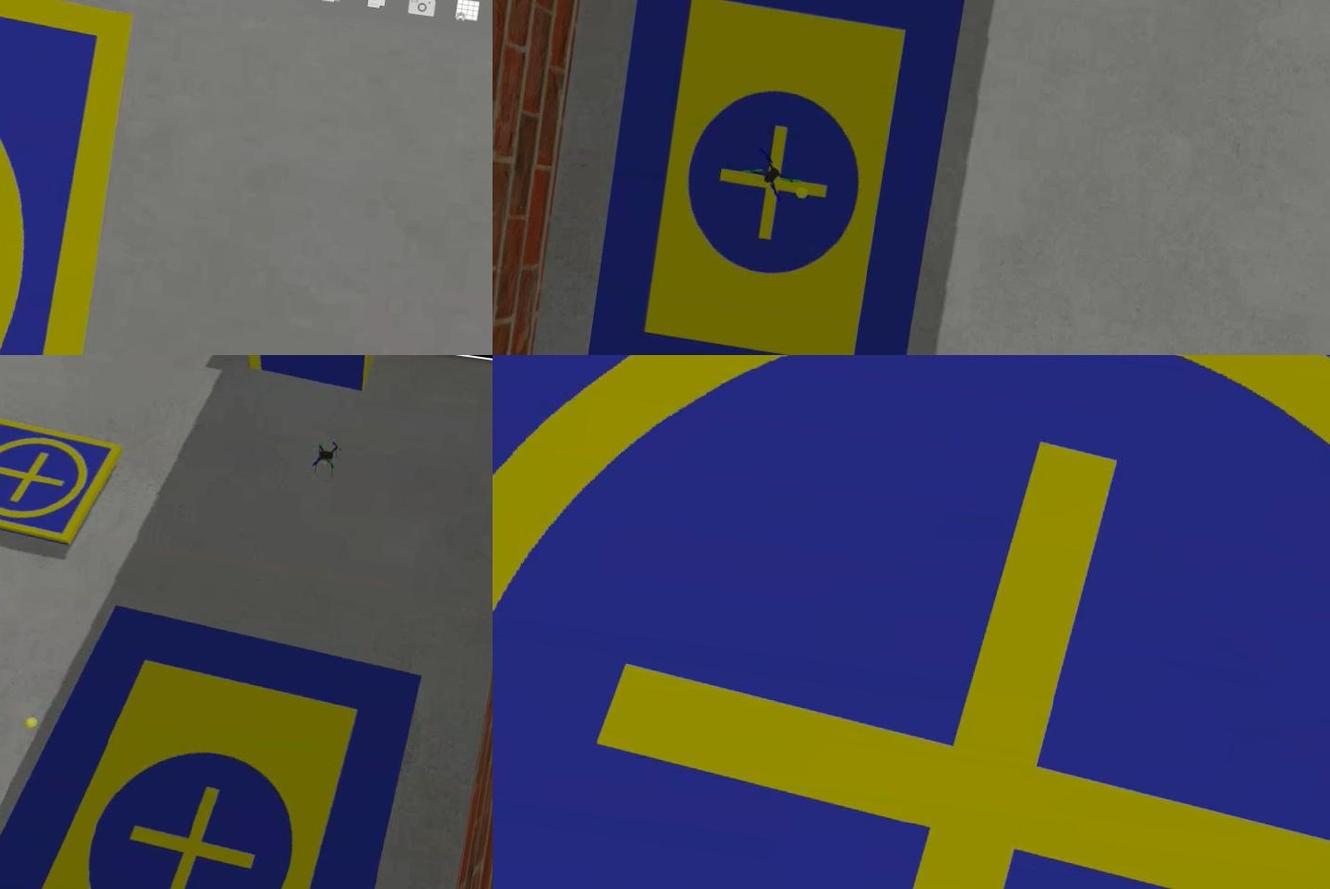large_base: (584, 1, 968, 356), (0, 579, 426, 889)
small_base: (491, 356, 1328, 889), (0, 1, 133, 356), (0, 409, 124, 553)
